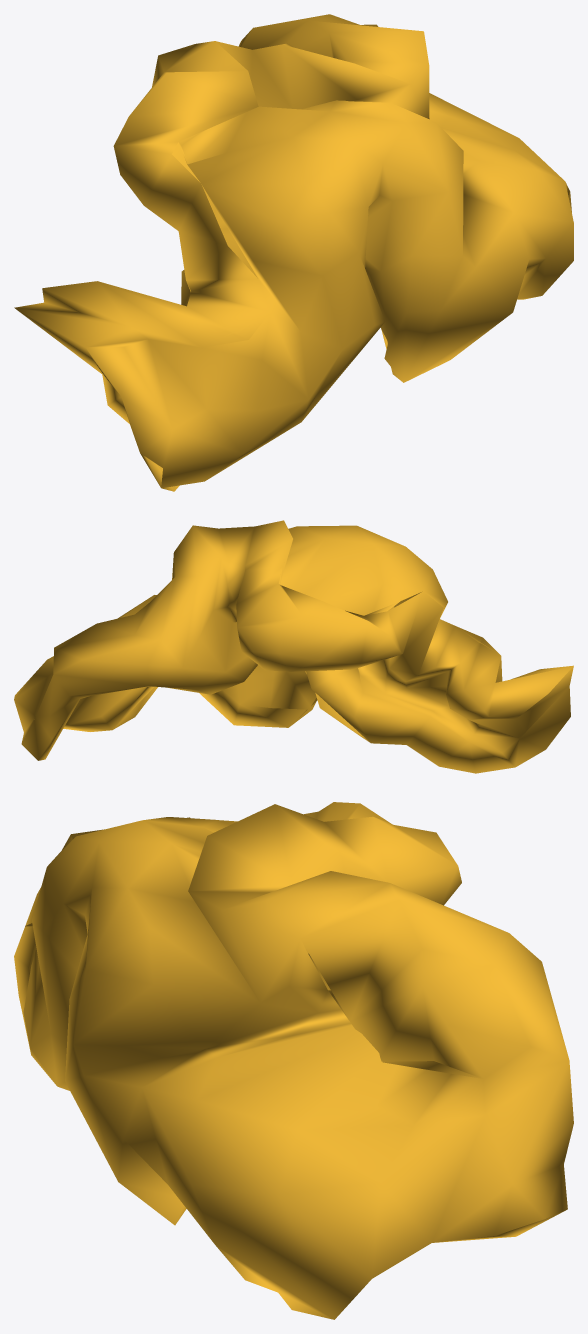
The model's file is nervoso-orbital-gyri-frontomarginal-gyrus-and-sulcus-l.glb.
The picture shows the model from 3 angles, top to bottom: view 1: azimuth 30°, elevation 25°; view 2: azimuth 150°, elevation 25°; view 3: azimuth 270°, elevation 25°; orthographic projection. The views are drawn at different scales.
Visible parts, largest first — view 1: Orbital gyri (Frontomarginal gyrus and sulcus*).l; view 2: Orbital gyri (Frontomarginal gyrus and sulcus*).l; view 3: Orbital gyri (Frontomarginal gyrus and sulcus*).l.
Part boxes in pixels (left/top/right/bottom): Orbital gyri (Frontomarginal gyrus and sulcus*).l: left=14, top=14, right=573, bottom=491; Orbital gyri (Frontomarginal gyrus and sulcus*).l: left=14, top=520, right=573, bottom=773; Orbital gyri (Frontomarginal gyrus and sulcus*).l: left=14, top=802, right=573, bottom=1319.
Bounding box in the file's own units: 0.0397 × 0.0197 × 0.0268.
